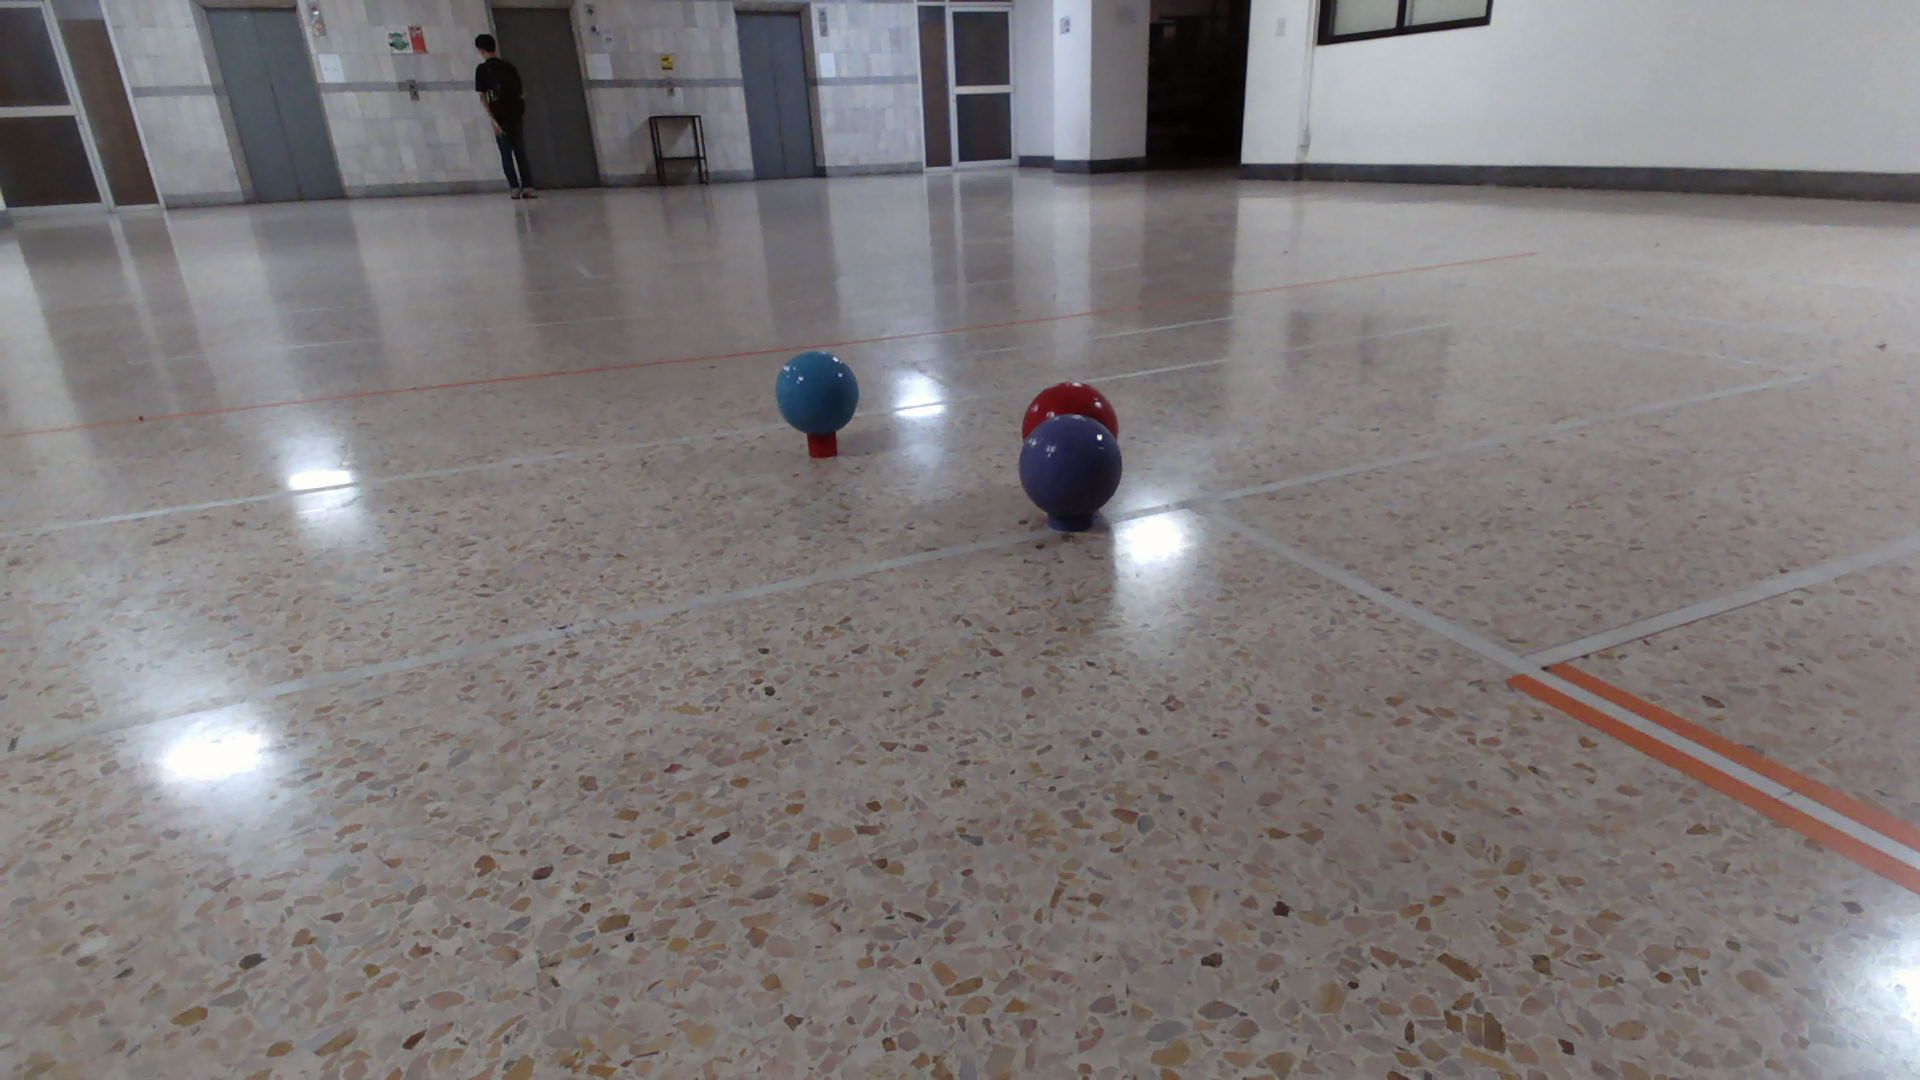Blue ball: (774, 349, 860, 435)
Purple ball: (1019, 414, 1124, 517)
Red ball: (1021, 378, 1120, 429)
